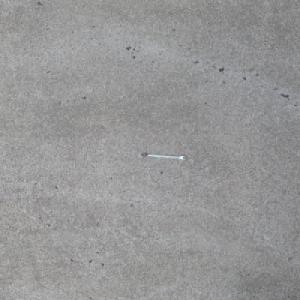Wrench: (139, 152, 186, 159)
